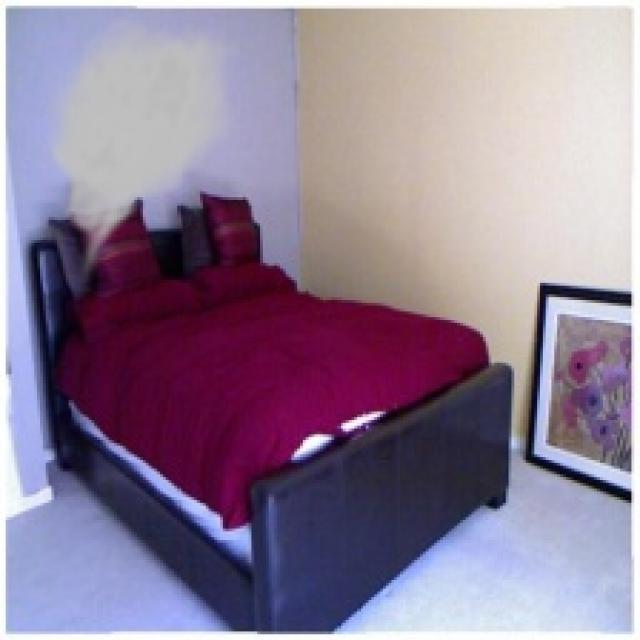Smoke: (40, 14, 243, 286)
